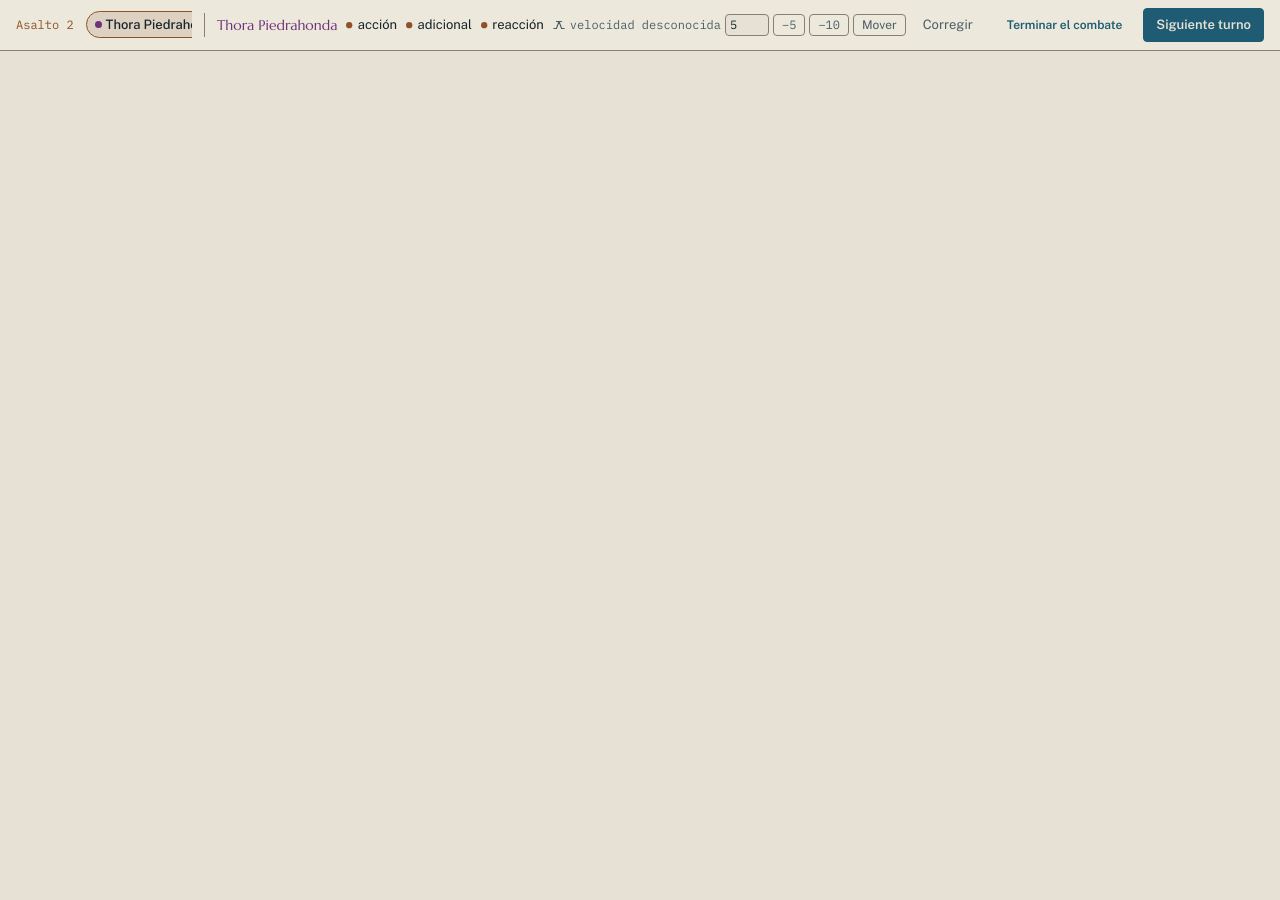
la propuesta de experiencia al terminar el combate › con xpPropuesto, «Repartir los PX» SIGUE en la mesa cuando `current` ya devuelve null y la tira se ha ido
What coordinates should you click on to do the following:
click the button "Terminar el combate"
I would click on:
 (1065, 25)
Its box is [994, 9, 1135, 41].
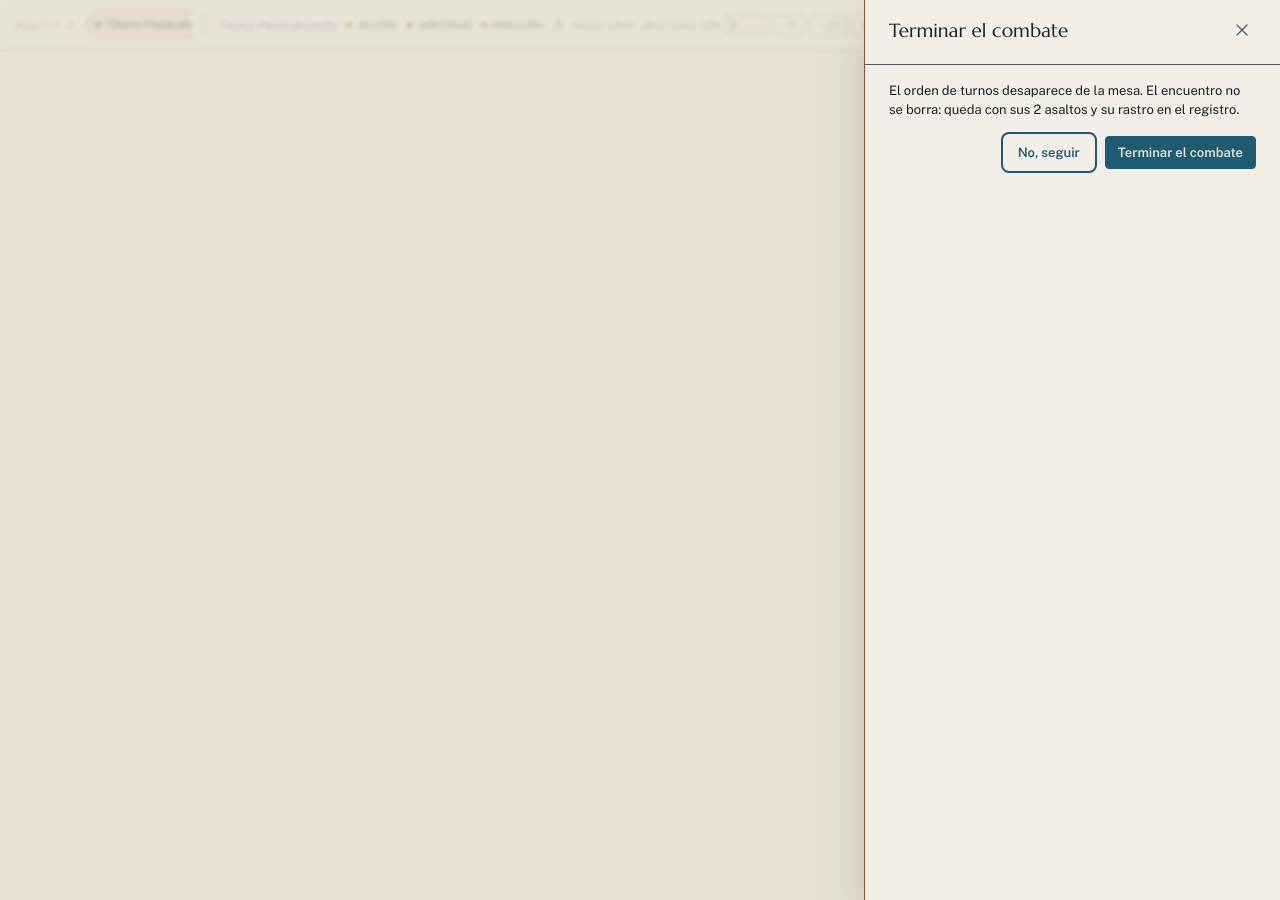
What coordinates should you click on to do the following:
click the button "Terminar el combate"
I would click on:
 (1180, 153)
Its box is [1105, 136, 1256, 169].
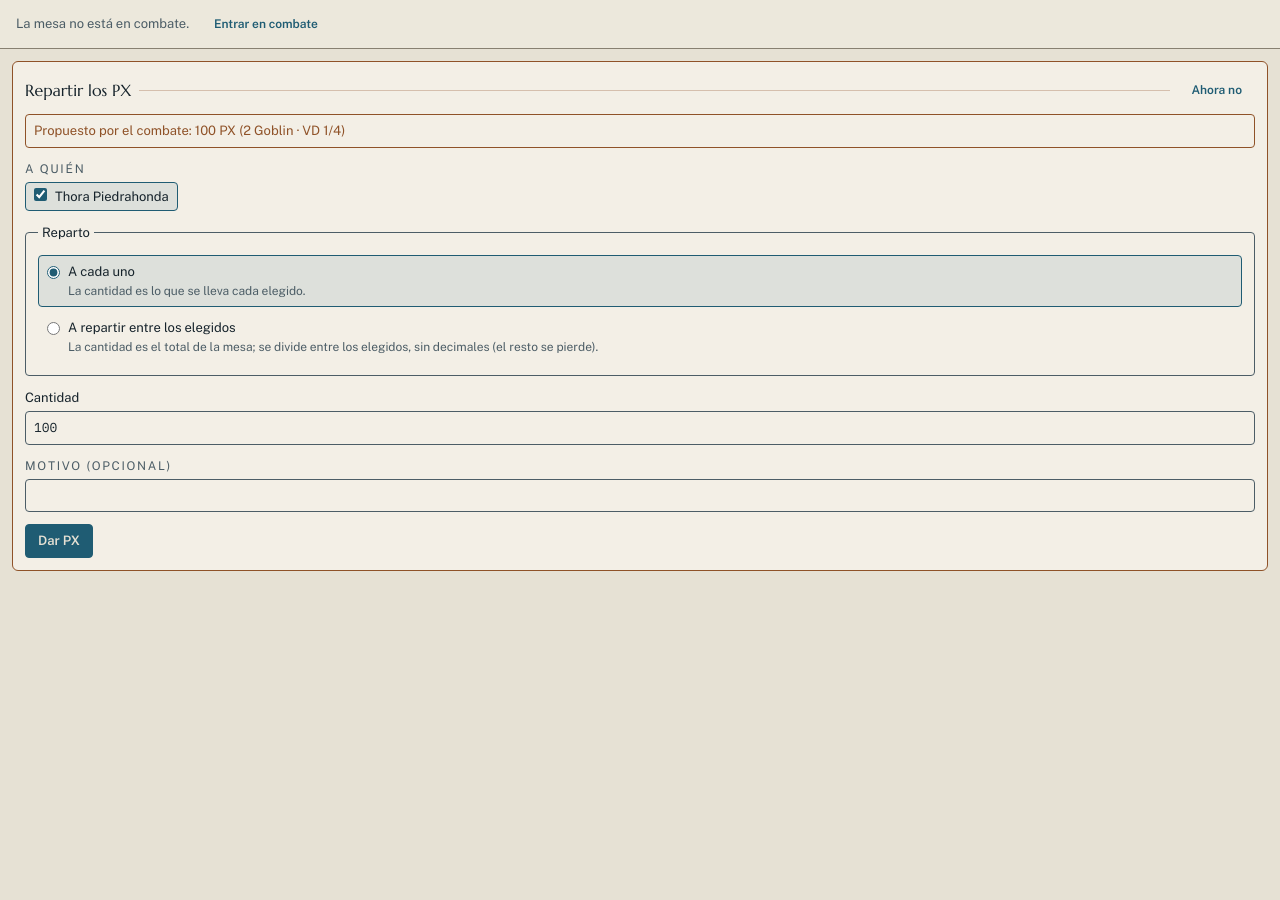
Check: the text "orden de turnos" is gone
Check: the heading "Repartir los PX" is shown, box [25, 78, 131, 102]
Check: the text "Propuesto por el combate: 100 PX (2 Goblin · VD 1/4)" is shown, box [25, 114, 1255, 148]
